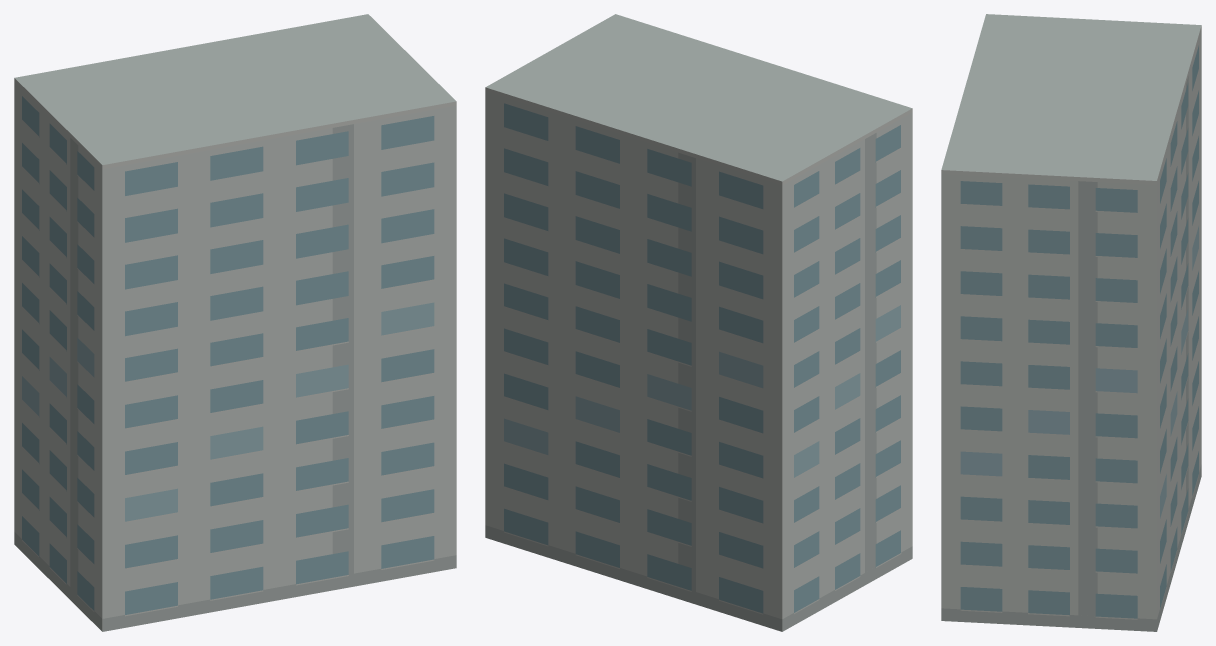
The model's file is residential-886a77a2-86f1-4ed6-ba77-37b626724d73.glb.
3 renders of one model, left to right at view 1: azimuth 30°, elevation 25°; view 2: azimuth 150°, elevation 25°; view 3: azimuth 270°, elevation 25°, orthographic. The views are drawn at different scales.
Parts seen in each view (by area): view 1: residential-886a77a2-86f1-4ed6-ba77-37b626724d73.tmp; view 2: residential-886a77a2-86f1-4ed6-ba77-37b626724d73.tmp; view 3: residential-886a77a2-86f1-4ed6-ba77-37b626724d73.tmp.
Part boxes in pixels (x1,y1,x2,y2): residential-886a77a2-86f1-4ed6-ba77-37b626724d73.tmp: [14, 14, 456, 631]; residential-886a77a2-86f1-4ed6-ba77-37b626724d73.tmp: [485, 14, 912, 631]; residential-886a77a2-86f1-4ed6-ba77-37b626724d73.tmp: [941, 14, 1201, 631].
Size of the model in its own units: 21.46 by 27 by 14.14.
